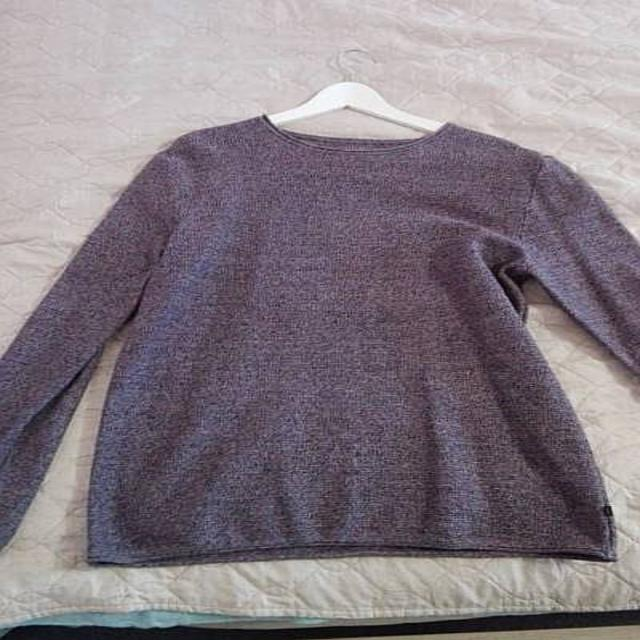SHIRT: (0, 103, 640, 575)
